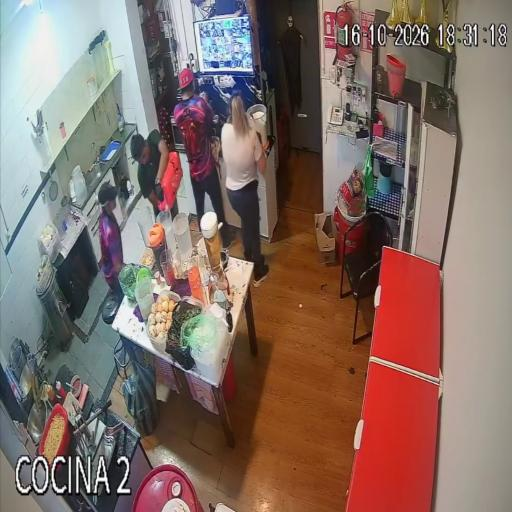Balde: (246, 104, 267, 145)
Envase Ketchup: (56, 381, 66, 399)
Envase Llajua: (43, 383, 55, 403)
Jarra1: (149, 223, 165, 273)
Jarra2: (173, 212, 192, 263), (69, 165, 87, 205)
Jarra3: (135, 276, 154, 320)
Jarra4: (157, 210, 176, 252)
Jarra5: (201, 211, 222, 276)
Licuadora: (212, 114, 219, 136)
Microondas: (170, 117, 185, 151)
Persona1: (130, 129, 169, 215)
Persona2: (221, 96, 267, 282)
Persona4: (174, 68, 232, 248), (98, 183, 123, 296)
Taper2: (145, 290, 180, 353)
Taper3: (179, 296, 205, 314)
Taper4: (182, 308, 230, 386)
